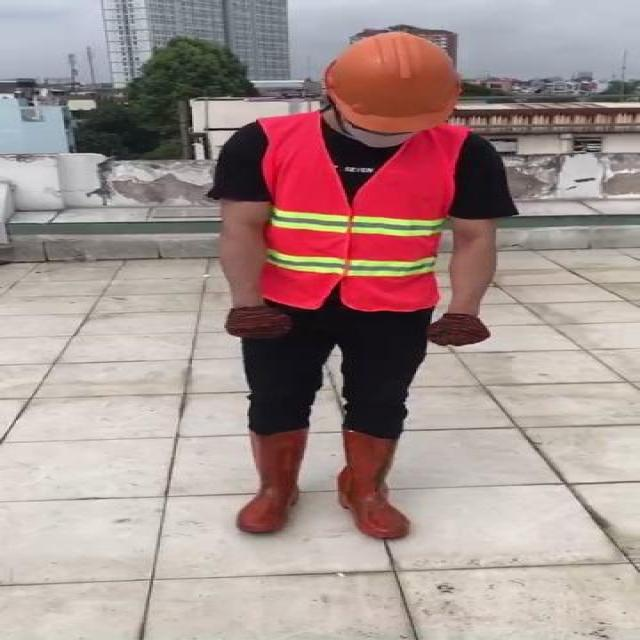boots: (336, 430, 414, 538), (236, 425, 306, 535)
hand_glove: (428, 312, 492, 346), (222, 308, 292, 339)
head_helmet: (320, 28, 462, 133)
person: (196, 27, 510, 551)
vest: (249, 114, 457, 308)
